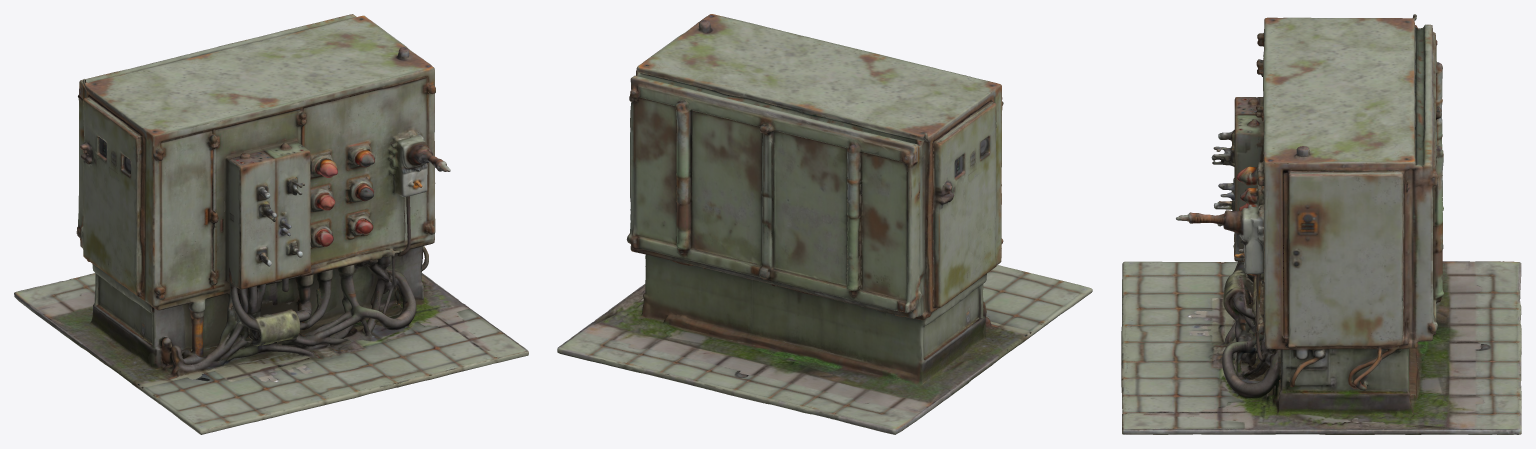
The model's file is generator.glb.
3 renders of one model, left to right at view 1: azimuth 30°, elevation 25°; view 2: azimuth 150°, elevation 25°; view 3: azimuth 270°, elevation 25°, orthographic. The views are drawn at different scales.
Visible parts, largest first — view 1: generator; view 2: generator; view 3: generator.
Part boxes in pixels (left/top/right/bottom): generator: left=14, top=14, right=528, bottom=434; generator: left=557, top=14, right=1092, bottom=434; generator: left=1121, top=14, right=1521, bottom=434.
Bounding box in the file's own units: 2.01 × 1.49 × 2.01.
Materials: 1 (1 with a texture image).
